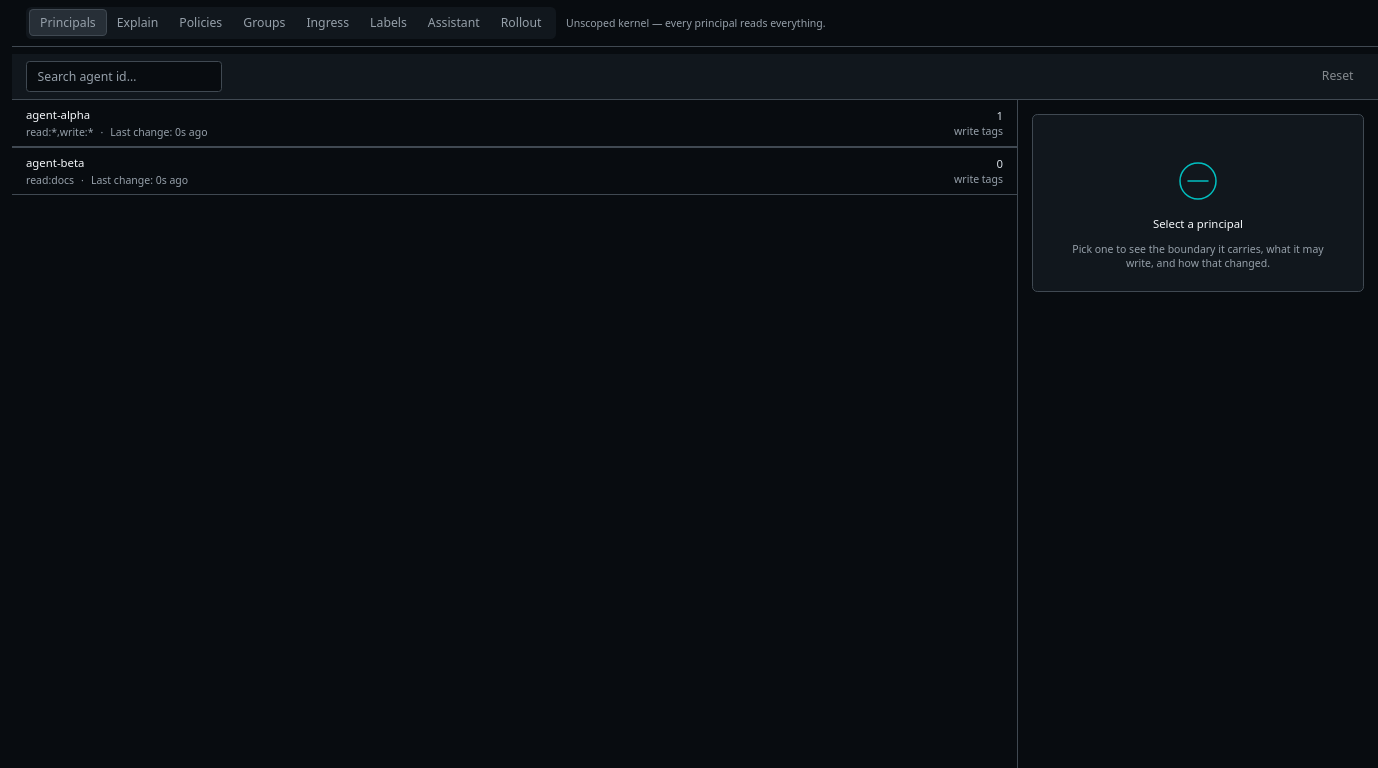
Test: AccessPolicyConsole — principals › renders agents and filters by search
Expected: the text "agent-alpha" is shown, [26,107,90,123]
Expected: the text "agent-beta" is shown, [26,155,84,171]
Type "alpha" into the search field named "Search agents" at coordinates (124, 76), box [26,60,222,92]
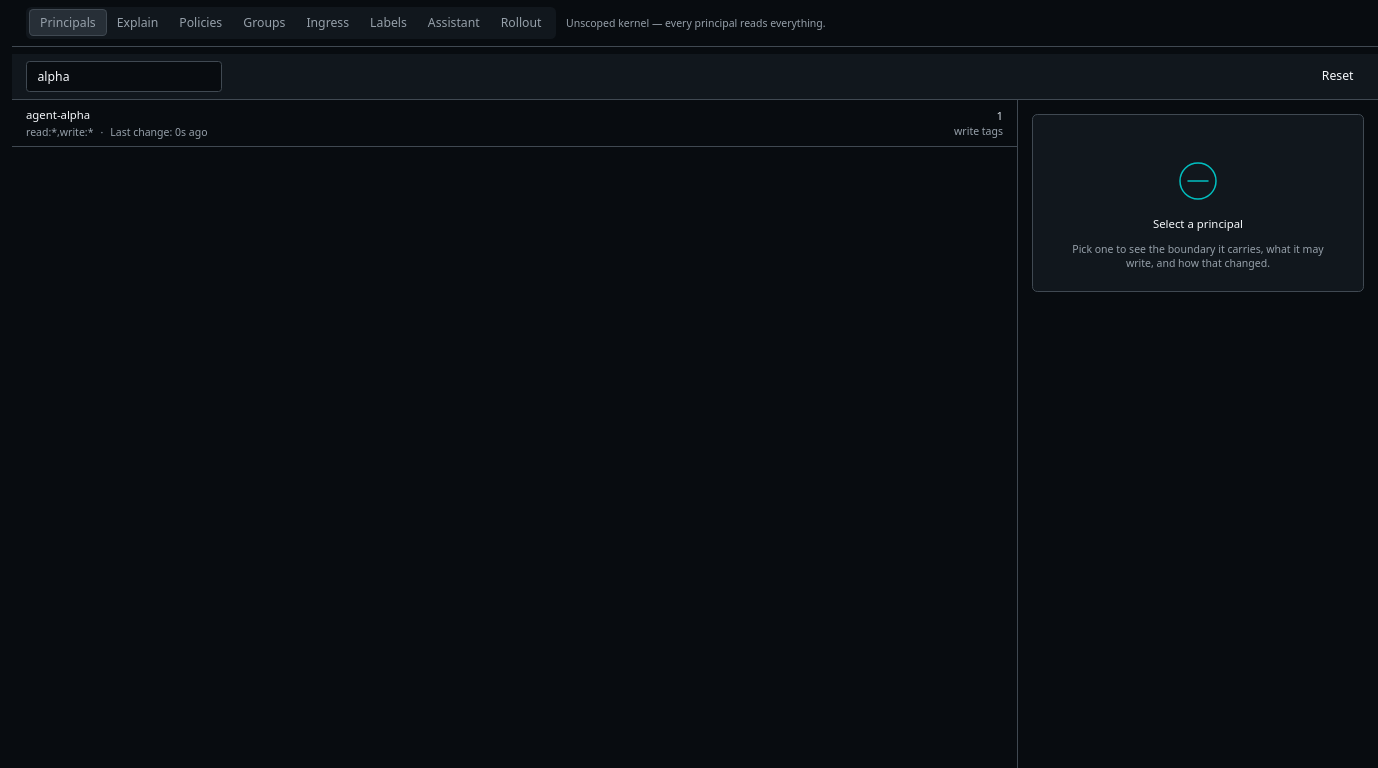
Expected: the text "agent-alpha" is shown, [26,107,90,123]
Expected: the button "agent-beta" is gone
